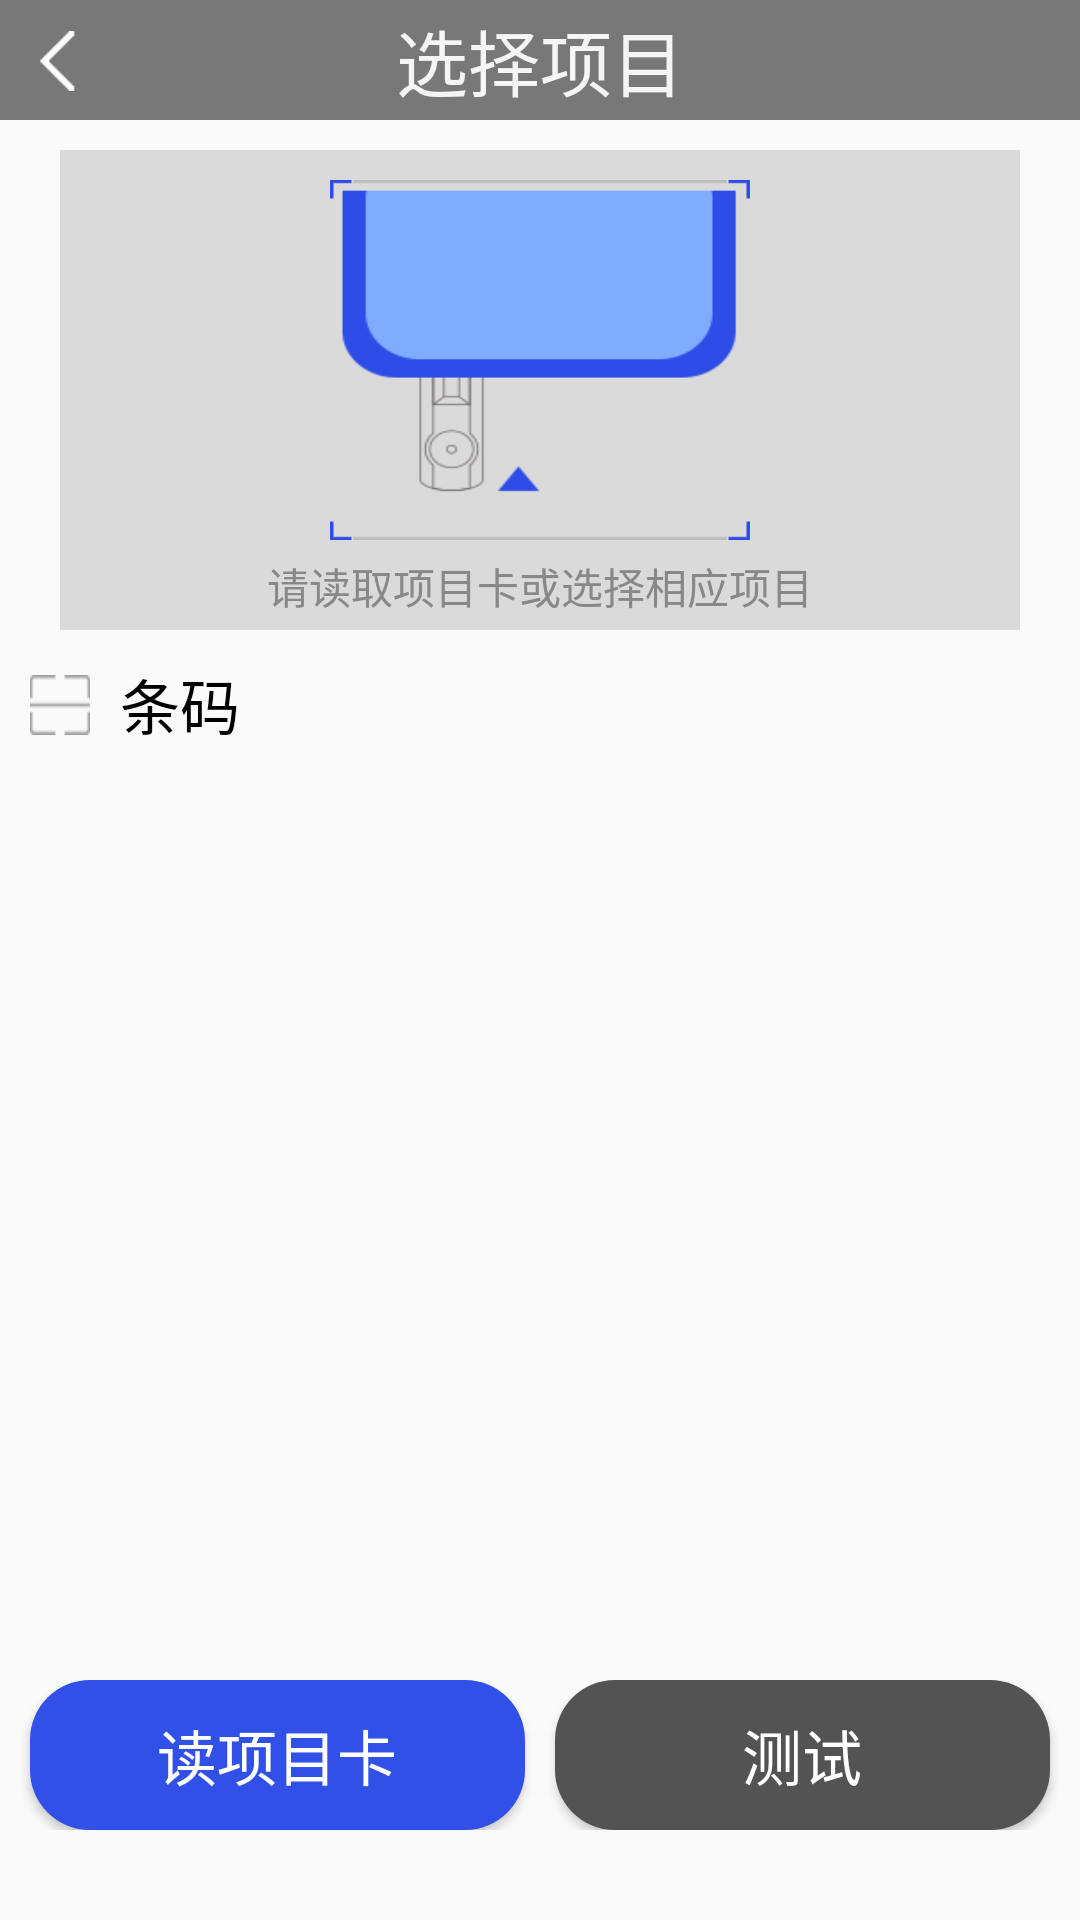

Locate icon controls on the screen. Image size 1080 × 1920, boxes as (x1, y1, x2, y2).
scan code: (30, 675, 90, 735)
